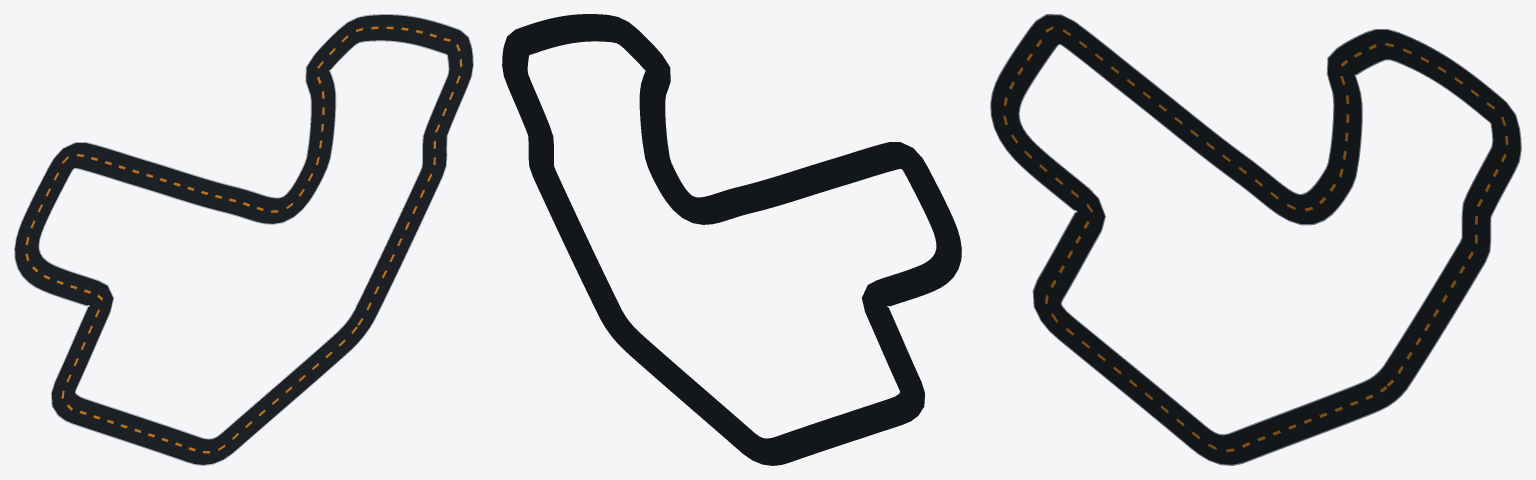
Rendered from track.obj.
3 views of the same model, side by side, from view 1: azimuth 30°, elevation 25°; view 2: azimuth 150°, elevation 25°; view 3: azimuth 330°, elevation 25° (orthographic). The views are drawn at different scales.
Bounding box in the file's own units: 19.2 × 16.46 × 0.002.
